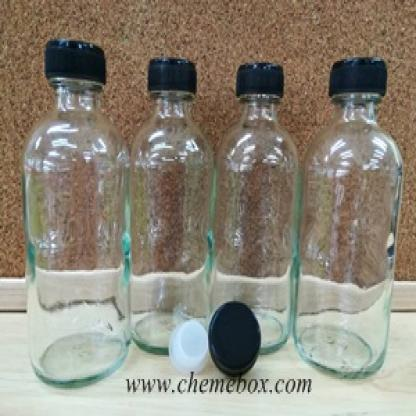Can: (21, 36, 130, 389), (297, 56, 403, 380), (129, 55, 214, 358), (216, 60, 300, 354)
